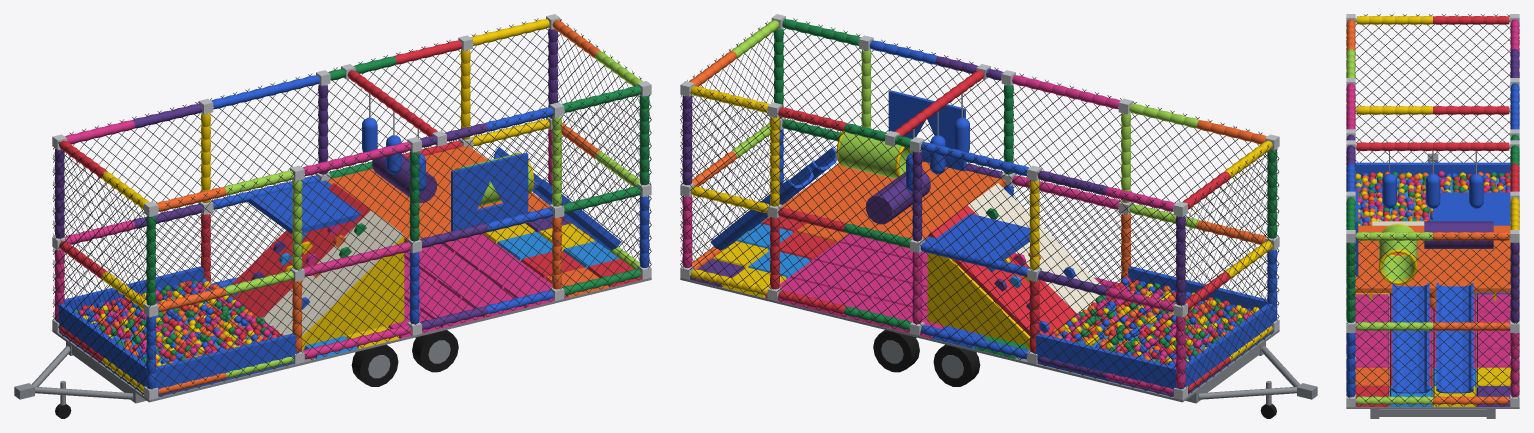
Rendered from web.glb.
3 views of the same model, side by side, from view 1: azimuth 30°, elevation 25°; view 2: azimuth 150°, elevation 25°; view 3: azimuth 270°, elevation 25° (orthographic). The views are drawn at different scales.
Parts seen in each view (by area): view 1: isotubo, rede, plataforma, piso, acolchoado, metal, bolinhas, plastico, borracha; view 2: isotubo, rede, plataforma, piso, acolchoado, metal, bolinhas, plastico, borracha; view 3: isotubo, rede, piso, plataforma, plastico, acolchoado, bolinhas, metal.
Part boxes in pixels (x1,y1,x2,y2): isotubo: (54, 19, 649, 394); rede: (52, 18, 651, 396); plataforma: (228, 145, 551, 349); piso: (304, 216, 642, 358); acolchoado: (55, 117, 534, 396); metal: (14, 14, 651, 405); bolinhas: (73, 278, 283, 366); plastico: (234, 147, 621, 309); borracha: (55, 330, 458, 418); isotubo: (682, 19, 1277, 394); rede: (680, 18, 1279, 396); plataforma: (780, 90, 1100, 349); piso: (689, 216, 1027, 358); acolchoado: (836, 117, 1276, 396); metal: (680, 14, 1317, 405); bolinhas: (1049, 277, 1259, 366); plastico: (710, 147, 1075, 333); borracha: (873, 330, 1276, 418); isotubo: (1346, 16, 1519, 405); rede: (1346, 14, 1519, 406); piso: (1355, 293, 1510, 406); plataforma: (1355, 188, 1510, 300); plastico: (1392, 217, 1473, 393); acolchoado: (1355, 162, 1510, 284); bolinhas: (1355, 170, 1510, 225); metal: (1346, 14, 1519, 418).
Bounding box in the file's own units: 7 × 2.7 × 2.
9 materials, 9 textured.
